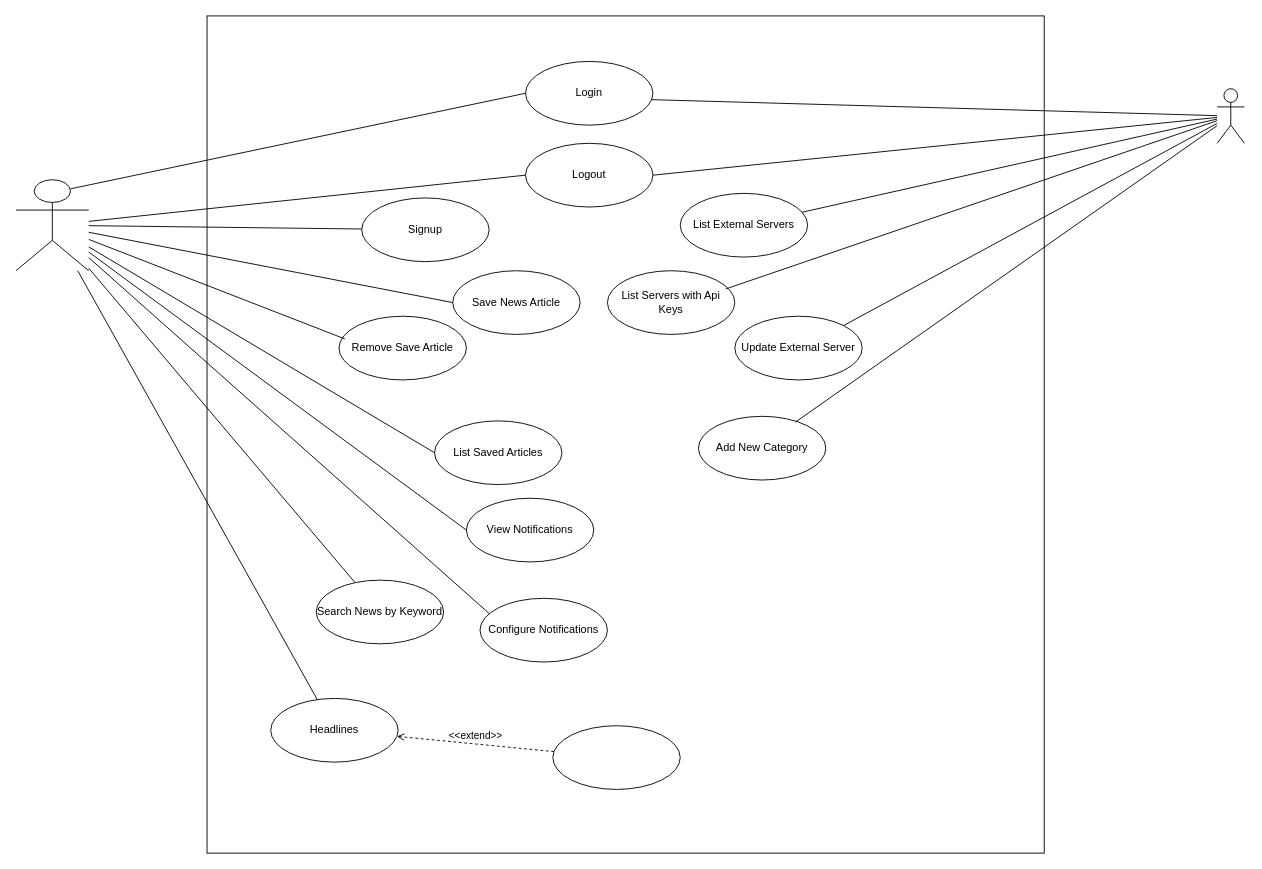
The diagram is 1262 pixels wide and 869 high, and some of its shapes have lost their labels. The shapes that lost their labels are listed below. From the top down, each one's box as (x1, y1, x2, y2) in pixels, then its label:
(1216, 88, 1244, 143): Admin
(15, 179, 89, 271): User
(552, 725, 680, 789): filter by timeline and category
